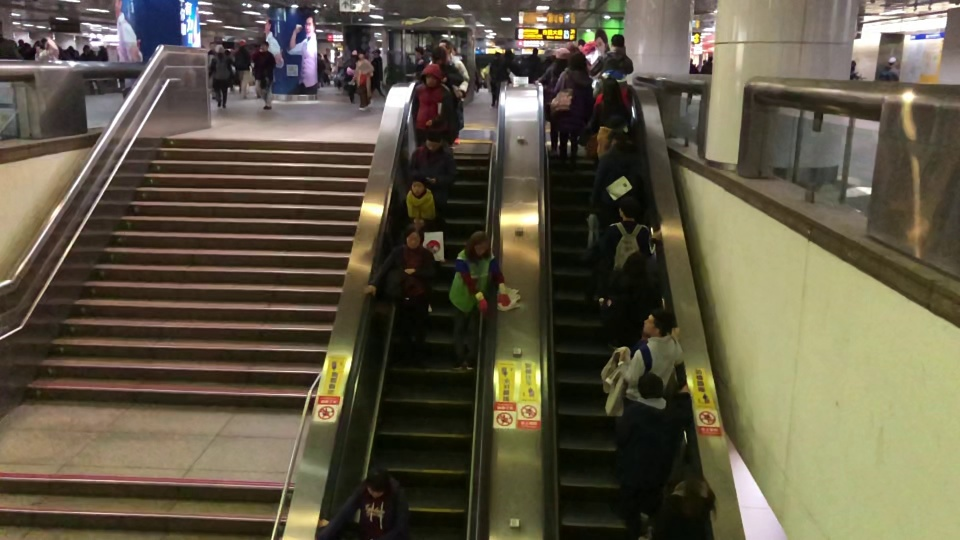person_head: (641, 307, 670, 337), (634, 371, 664, 400), (619, 249, 646, 281), (465, 230, 492, 259), (365, 466, 389, 498), (668, 457, 696, 481), (615, 195, 638, 220), (422, 124, 443, 150), (408, 171, 427, 197), (422, 63, 442, 87), (401, 226, 425, 246), (429, 45, 446, 65), (569, 51, 588, 68), (601, 76, 619, 93), (603, 110, 621, 127), (603, 56, 620, 72), (607, 128, 624, 144), (610, 34, 624, 49), (439, 39, 452, 55), (414, 45, 425, 60), (556, 47, 569, 59), (583, 43, 595, 55), (259, 40, 271, 51), (888, 56, 898, 67), (214, 44, 223, 55), (544, 49, 553, 60), (81, 44, 89, 53), (373, 49, 380, 57), (531, 47, 539, 54), (350, 47, 356, 56), (494, 51, 501, 58), (239, 40, 245, 48), (707, 54, 712, 62), (851, 60, 855, 70), (359, 50, 364, 57), (19, 38, 23, 45), (690, 58, 693, 62)
person_vbox: (614, 371, 691, 540), (364, 225, 437, 368), (598, 195, 661, 350), (448, 229, 512, 370), (319, 465, 410, 540), (616, 307, 687, 401), (400, 171, 446, 314), (600, 250, 668, 344), (410, 124, 456, 228), (553, 50, 592, 172), (589, 128, 643, 213), (663, 455, 717, 539), (429, 38, 470, 145), (410, 64, 460, 149), (415, 46, 464, 131), (539, 47, 569, 154), (585, 109, 634, 161), (590, 35, 634, 78), (592, 57, 633, 100), (252, 40, 277, 110), (594, 75, 632, 119), (208, 44, 233, 107), (352, 48, 374, 111), (81, 46, 104, 94), (235, 39, 252, 99), (341, 47, 357, 103), (489, 50, 501, 105), (370, 49, 383, 97), (687, 56, 699, 105), (877, 56, 899, 81), (414, 45, 428, 74), (528, 48, 540, 76), (701, 55, 712, 73)
